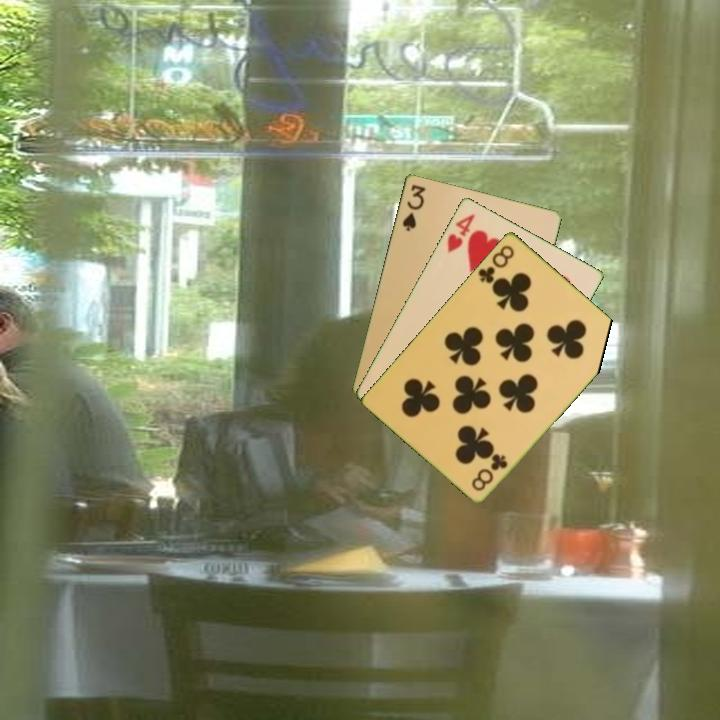3s: (398, 181, 428, 234)
4h: (443, 210, 478, 255)
8c: (474, 241, 517, 286), (468, 450, 511, 494)
